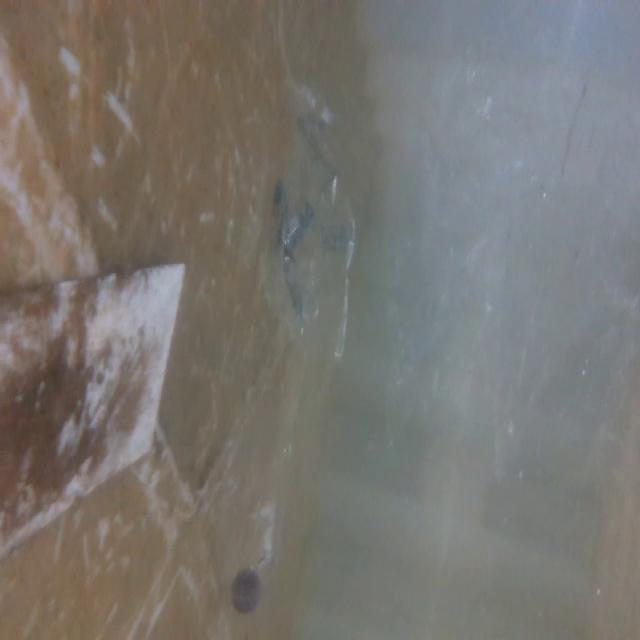metal: (0, 256, 191, 563)
plastic bags: (382, 0, 570, 555), (266, 82, 370, 367)
plastic bottle: (204, 414, 300, 627)
